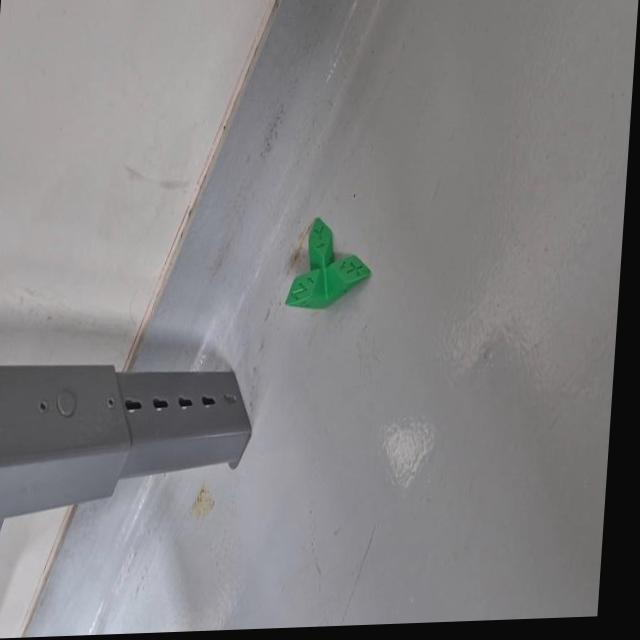eje: (285, 205, 381, 323)
